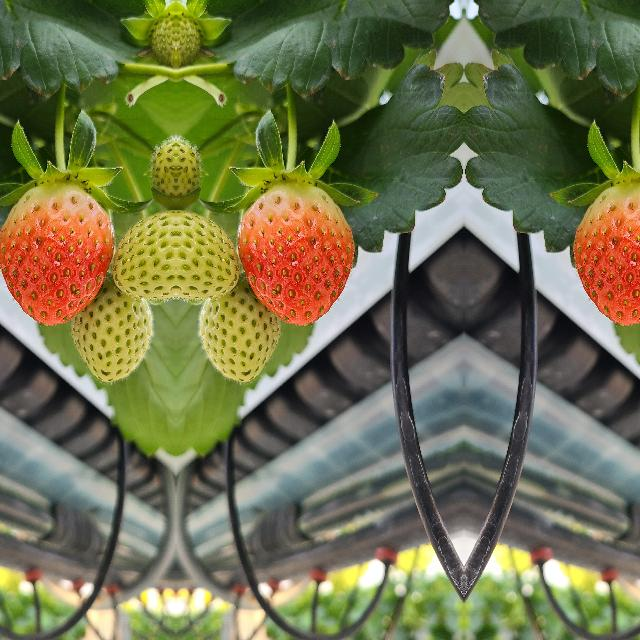Health_100: (237, 186, 353, 324), (0, 185, 113, 324), (573, 185, 640, 324)
Health_25: (193, 282, 281, 383), (69, 282, 157, 383), (175, 208, 235, 302), (115, 208, 175, 302), (174, 5, 216, 66), (134, 5, 176, 66), (176, 124, 202, 196), (148, 124, 174, 196)
